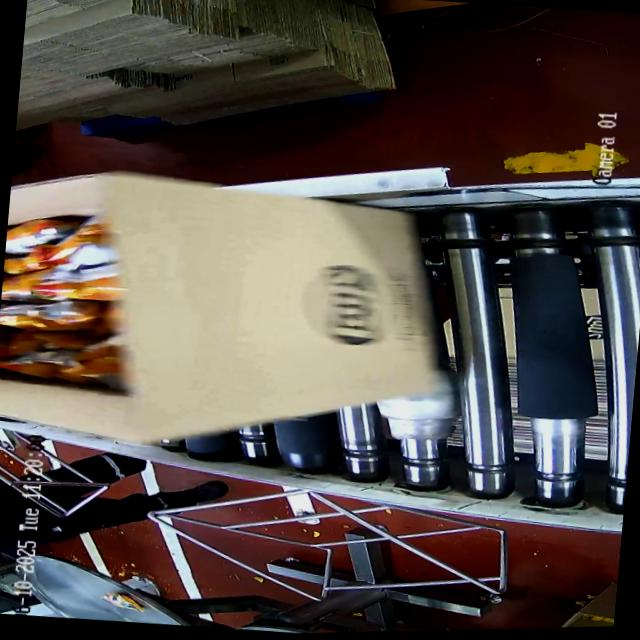FRENCH_CHEESE: (0, 203, 136, 384)
